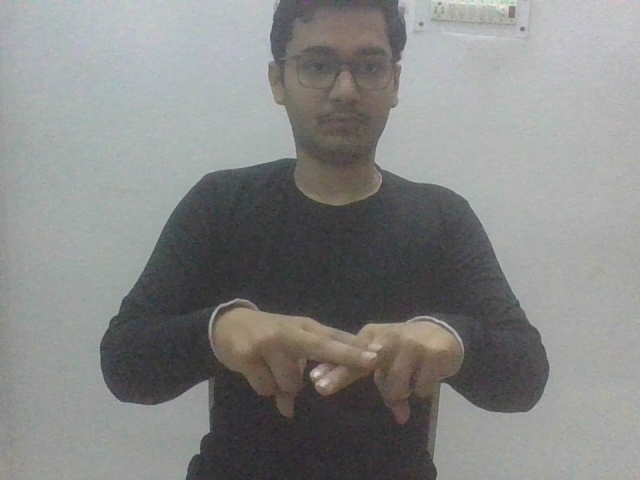F: (199, 290, 465, 429)
